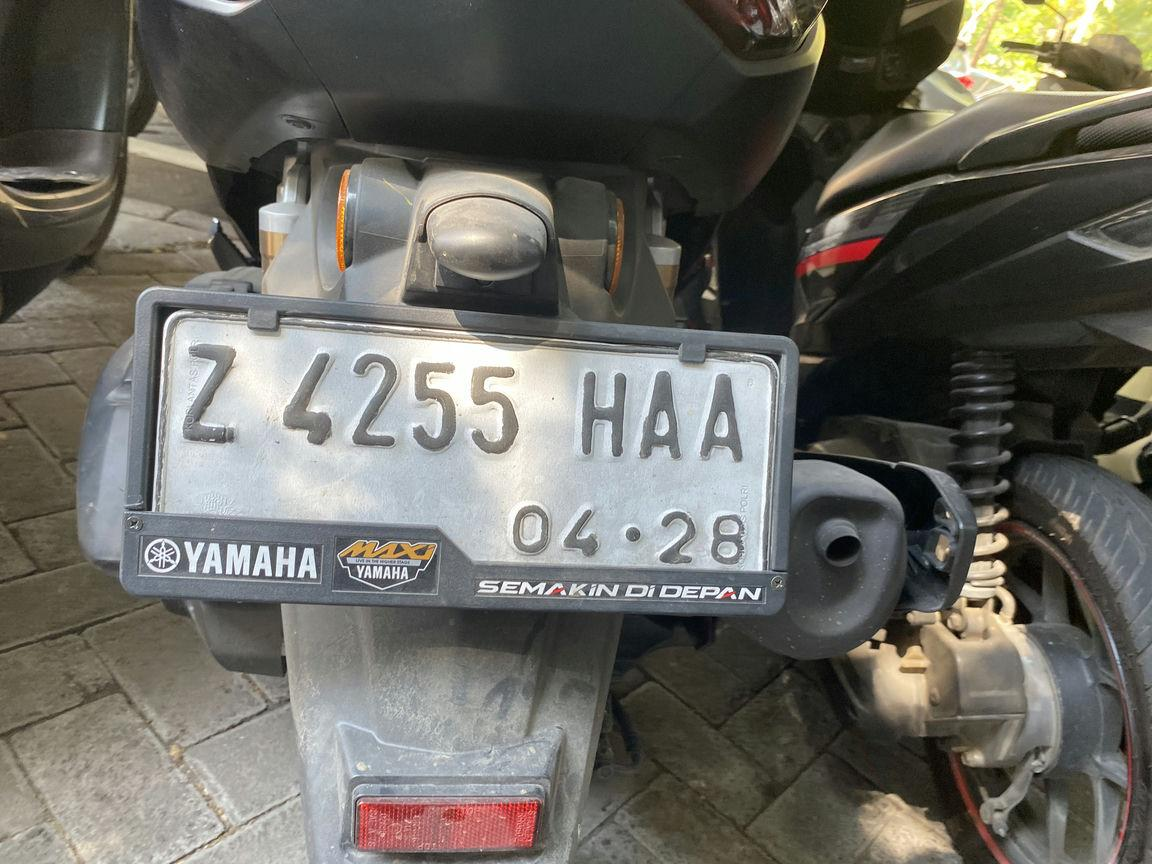plat: (122, 288, 796, 614)
